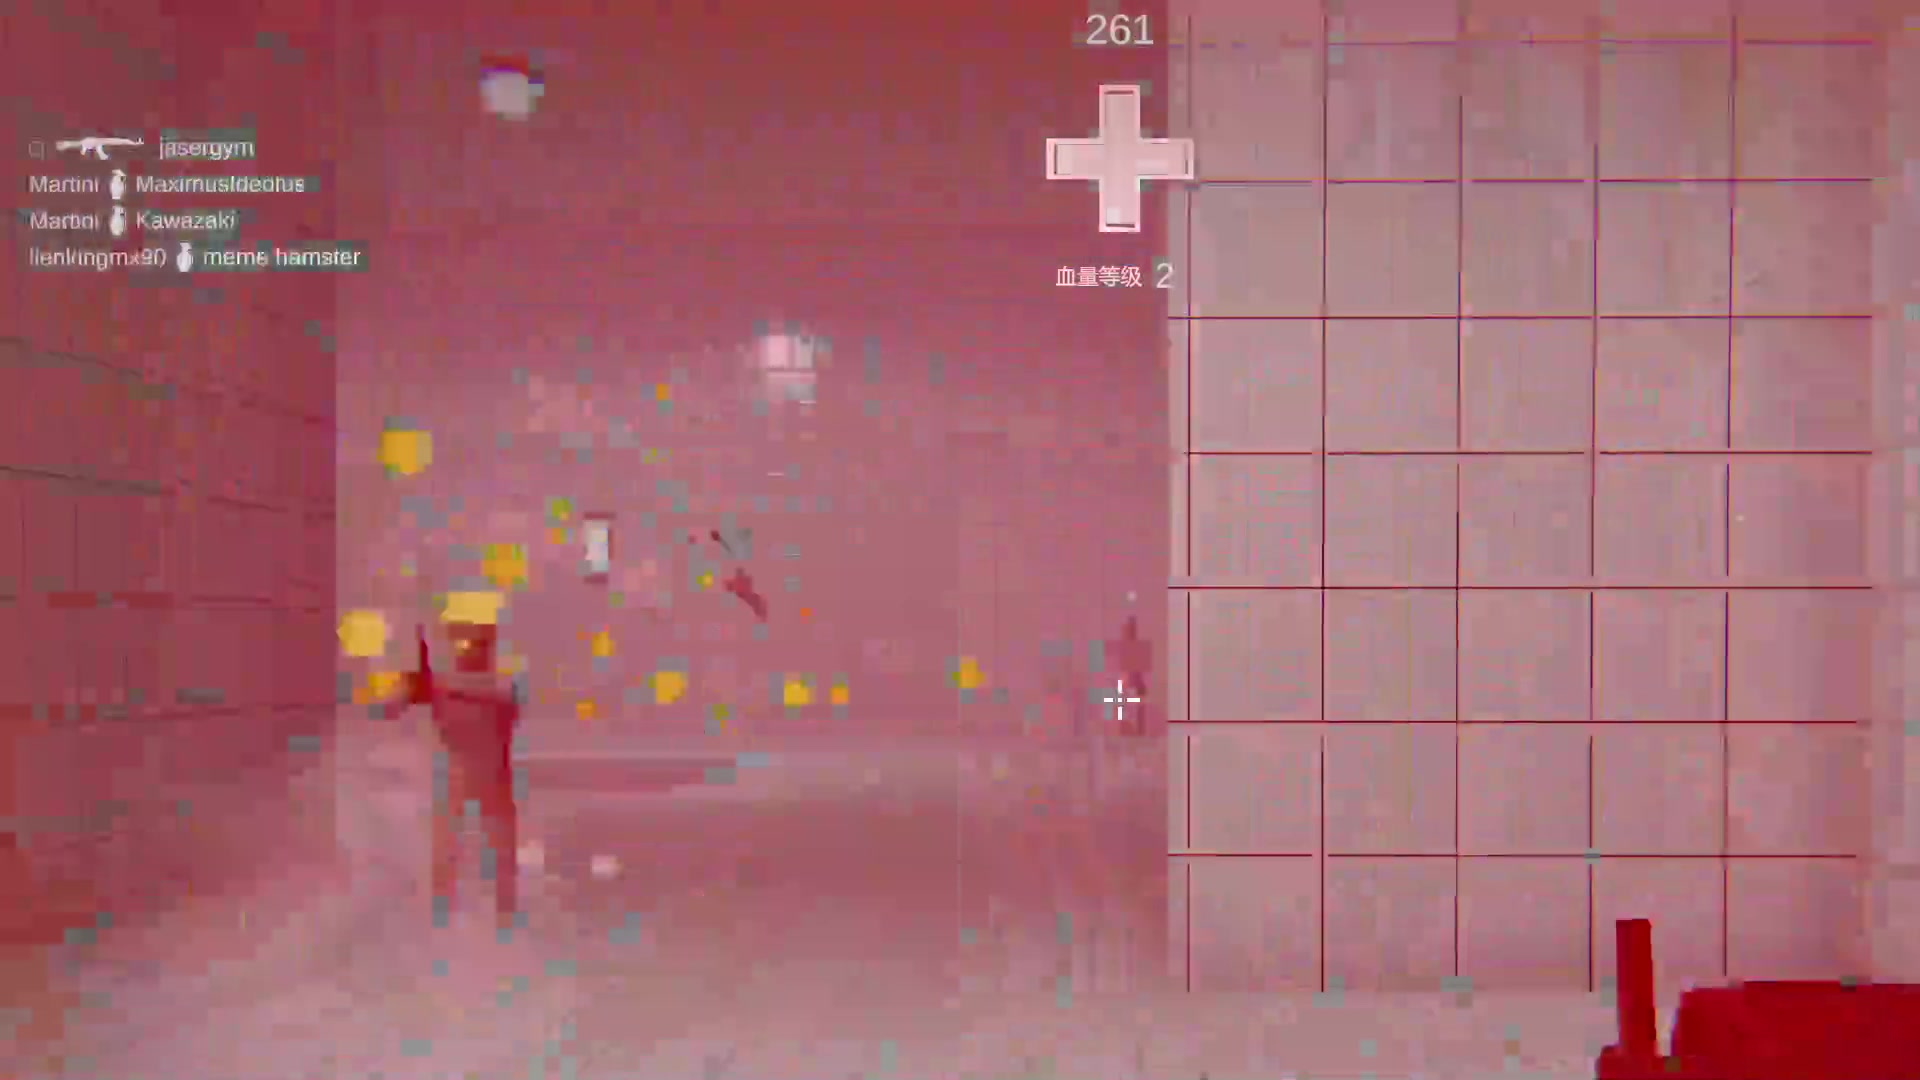human: (415, 588, 527, 919)
